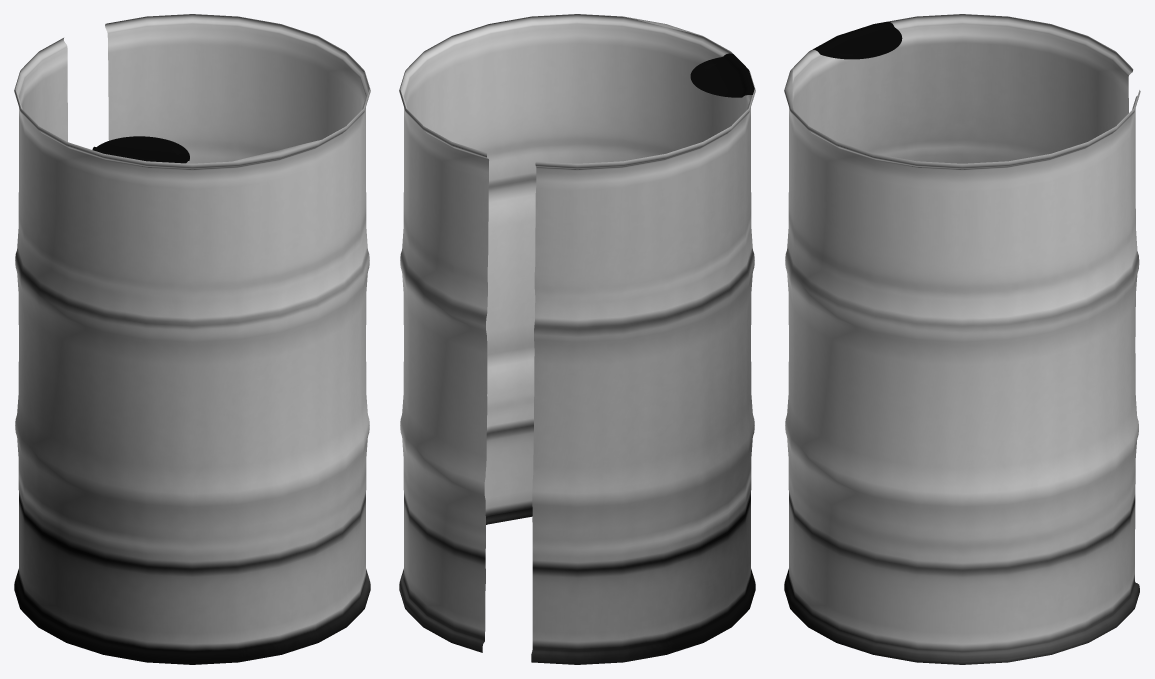
The model's file is oil_barrel.fbx.
The picture shows the model from 3 angles, left to right: view 1: azimuth 30°, elevation 25°; view 2: azimuth 150°, elevation 25°; view 3: azimuth 270°, elevation 25°; orthographic projection.
Parts seen in each view (by area): view 1: oil_barrel; view 2: oil_barrel; view 3: oil_barrel.
Boxes of the visible parts, left/top/right/bottom form: oil_barrel: left=14, top=14, right=370, bottom=664; oil_barrel: left=399, top=14, right=755, bottom=664; oil_barrel: left=784, top=14, right=1140, bottom=664.
Size of the model in its own units: 1.59 by 2.46 by 1.59.
